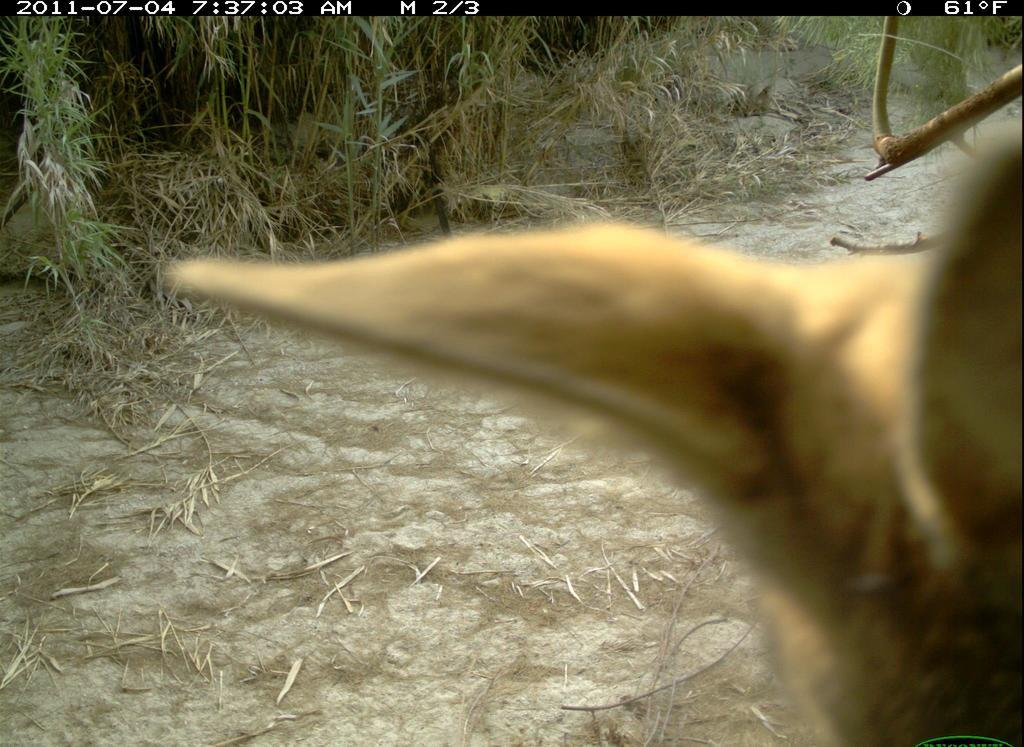coyote: (153, 135, 1023, 744)
